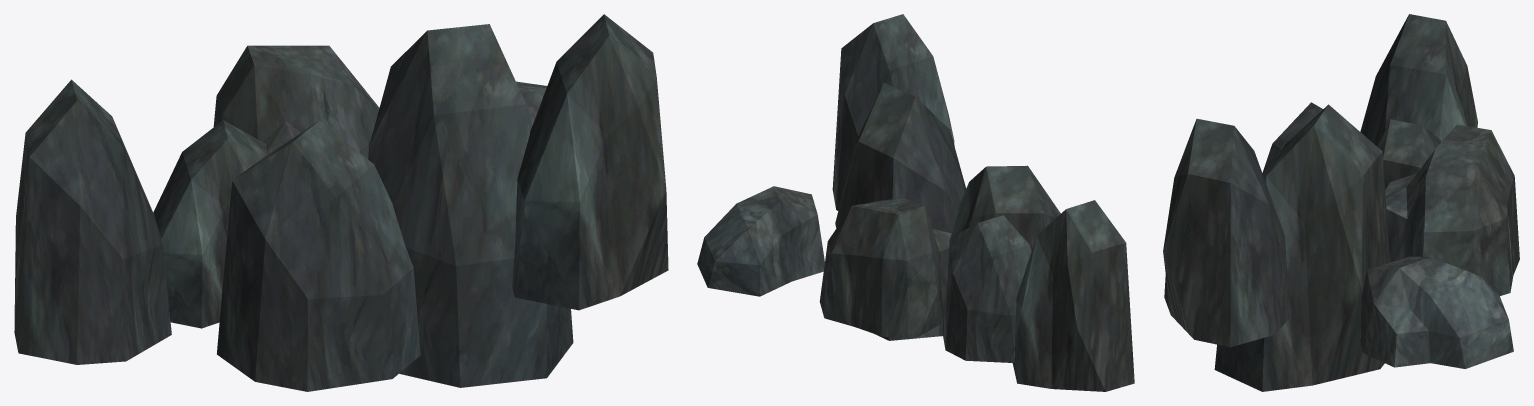
The model's file is object_rubble42.fbx.
3 views of the same model, side by side, from view 1: azimuth 30°, elevation 25°; view 2: azimuth 150°, elevation 25°; view 3: azimuth 270°, elevation 25° (orthographic). The views are drawn at different scales.
Visible parts, largest first — view 1: obj0.112; view 2: obj0.112; view 3: obj0.112.
Boxes of the visible parts, x1=… form: obj0.112: x1=14, y1=14, x2=668, y2=391; obj0.112: x1=697, y1=14, x2=1134, y2=391; obj0.112: x1=1163, y1=14, x2=1519, y2=391.
Bounding box in the file's own units: 9.85 × 5.53 × 6.59.
